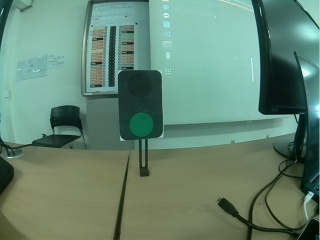green_light: (117, 71, 164, 142)
